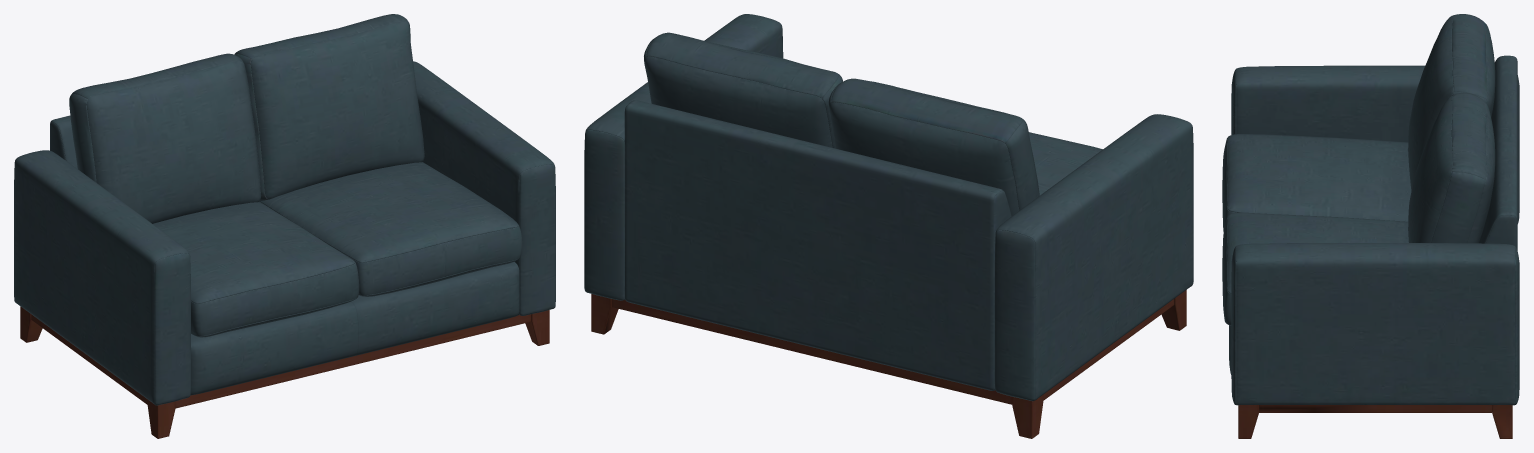
File: B071ZLY18Y.glb
3 renders of one model, left to right at view 1: azimuth 30°, elevation 25°; view 2: azimuth 150°, elevation 25°; view 3: azimuth 270°, elevation 25°, orthographic. The views are drawn at different scales.
Parts seen in each view (by area): view 1: RootNode; view 2: RootNode; view 3: RootNode.
Part boxes in pixels (x1=…): RootNode: x1=14, y1=14, x2=555, y2=438; RootNode: x1=584, y1=14, x2=1193, y2=438; RootNode: x1=1222, y1=14, x2=1519, y2=438.
Bounding box in the file's own units: 1.49 × 0.9026 × 0.9554.
1 material, 1 textured.
